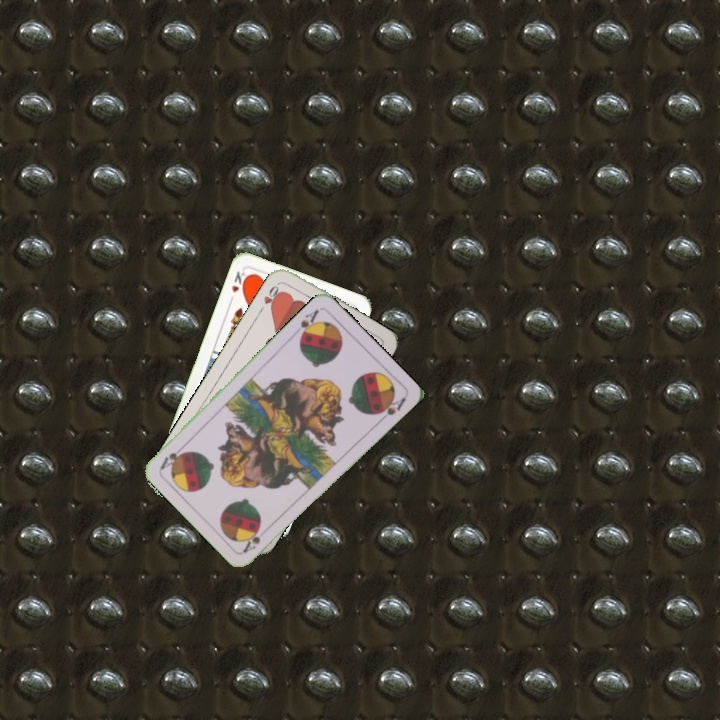HK: (225, 267, 251, 305)
HO: (255, 278, 284, 315)
SA: (238, 523, 271, 556), (296, 305, 322, 342)
